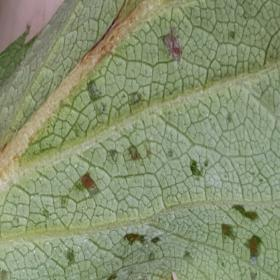Angular Leafspot: (0, 19, 279, 279)
